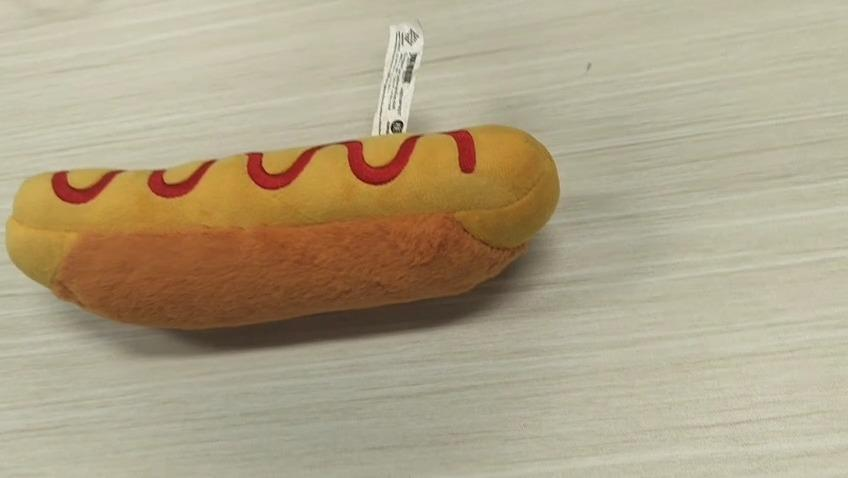hotdog: (5, 121, 561, 331)
